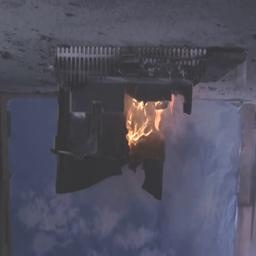fire: (110, 91, 177, 158)
smoke: (6, 164, 249, 254)
